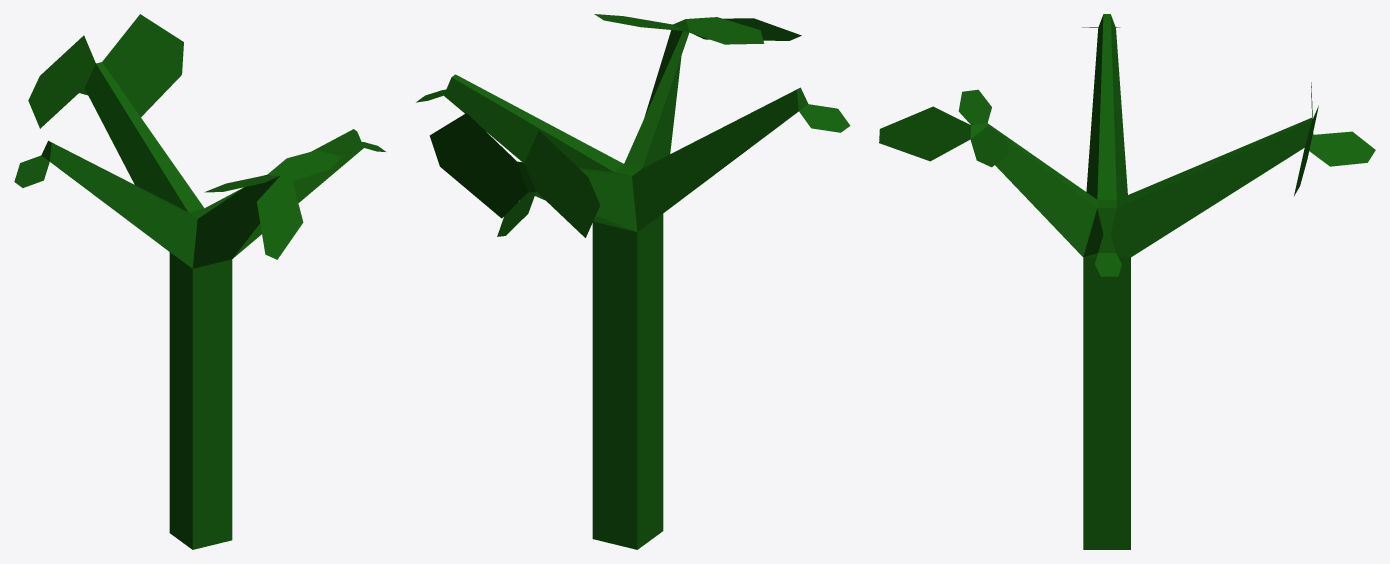
File: testyearling.obj
The picture shows the model from 3 angles, left to right: view 1: azimuth 30°, elevation 25°; view 2: azimuth 150°, elevation 25°; view 3: azimuth 270°, elevation 25°; orthographic projection. The views are drawn at different scales.
Visible parts, largest first — view 1: Cube; view 2: Cube; view 3: Cube.
Boxes of the visible parts, bbox=[...] form: Cube: bbox=[14, 14, 385, 549]; Cube: bbox=[416, 14, 850, 549]; Cube: bbox=[879, 14, 1375, 549].
Size of the model in its own units: 2.97 by 3.36 by 3.32.
